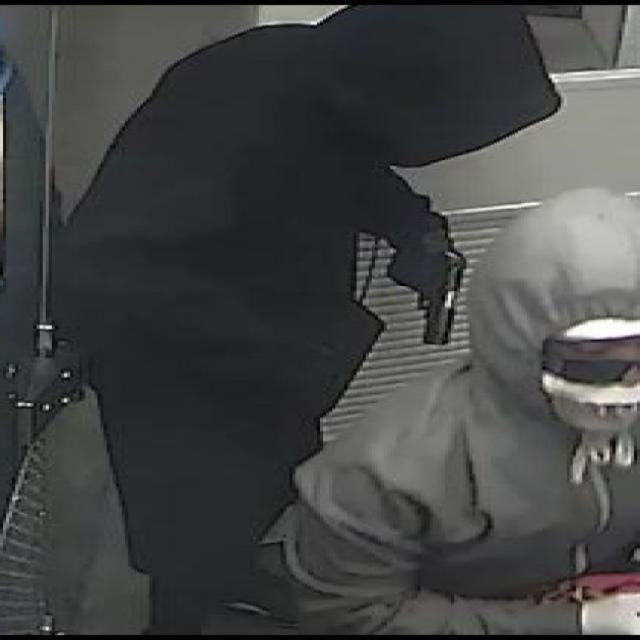pistol: (378, 232, 472, 348)
